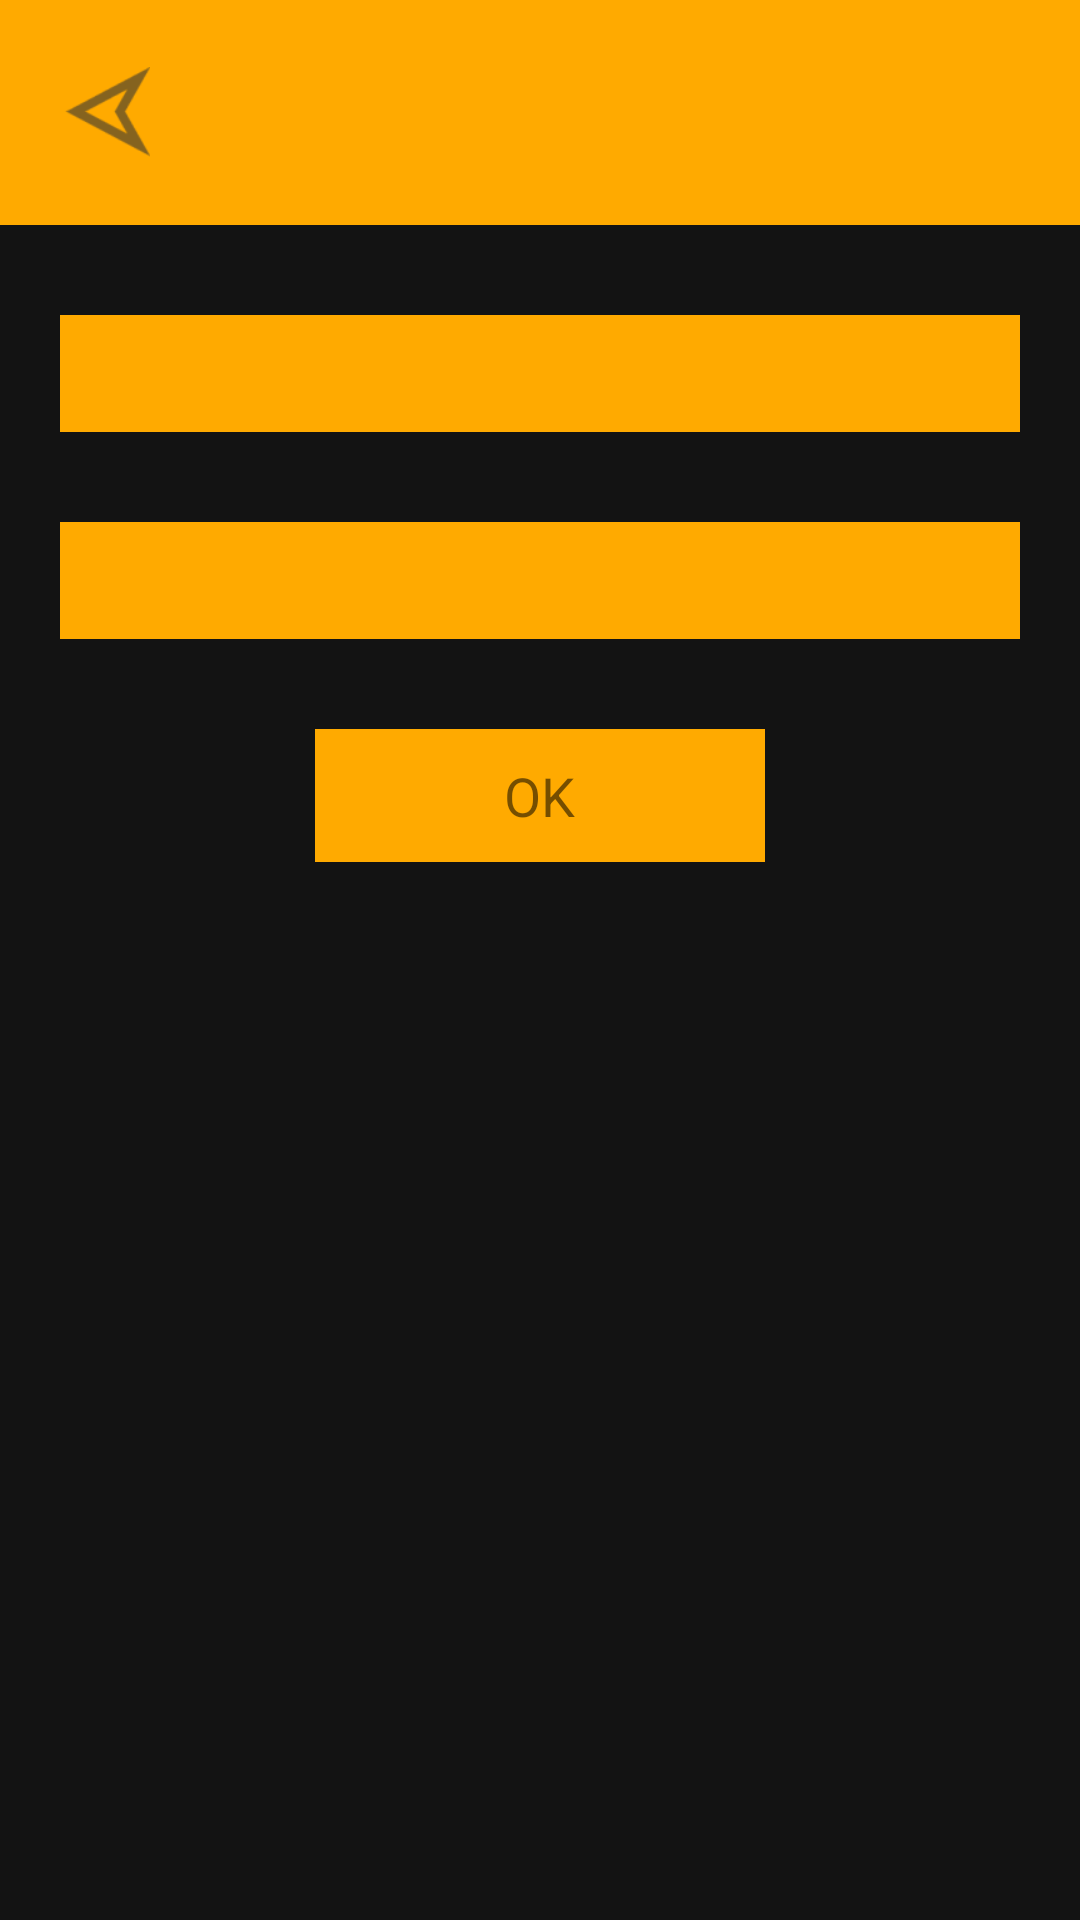

Icons on this 1080×1920 Android screen, each with the point to tap as point (x, y):
back: point (108, 111)
